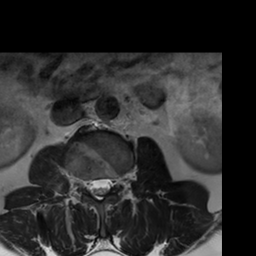CCS_normal: (95, 173, 103, 206)
LFS_stenosis: (111, 172, 122, 192)
LLS_normal: (103, 172, 111, 195)
RFS_normal: (79, 174, 87, 196)
RLS_normal: (87, 174, 95, 197)
